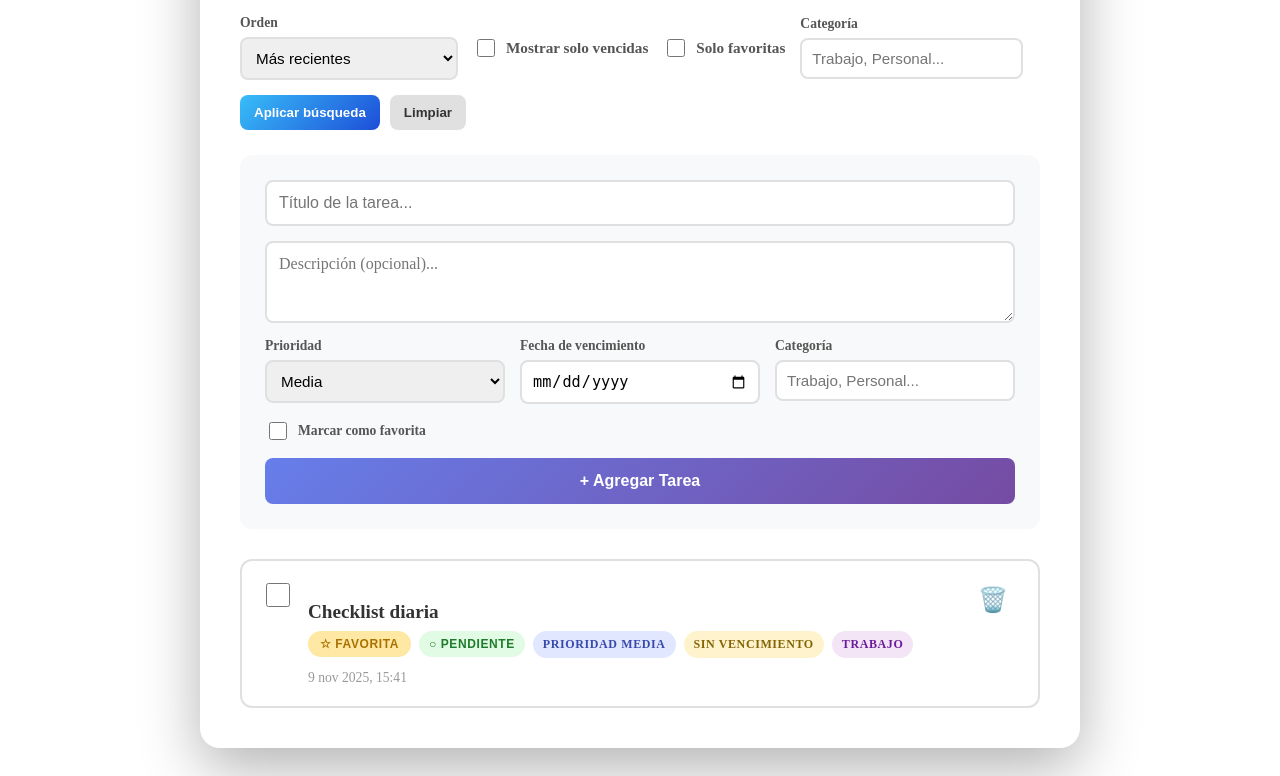
Test case: App - Gestión de Tareas › permite alternar el estado usando el botón de estado
(page scrolled)
What coordinates should you click on to do the following:
click the button "○ Pendiente"
I would click on:
 (472, 644)
Its box is top-left (419, 631), bottom-right (525, 657).
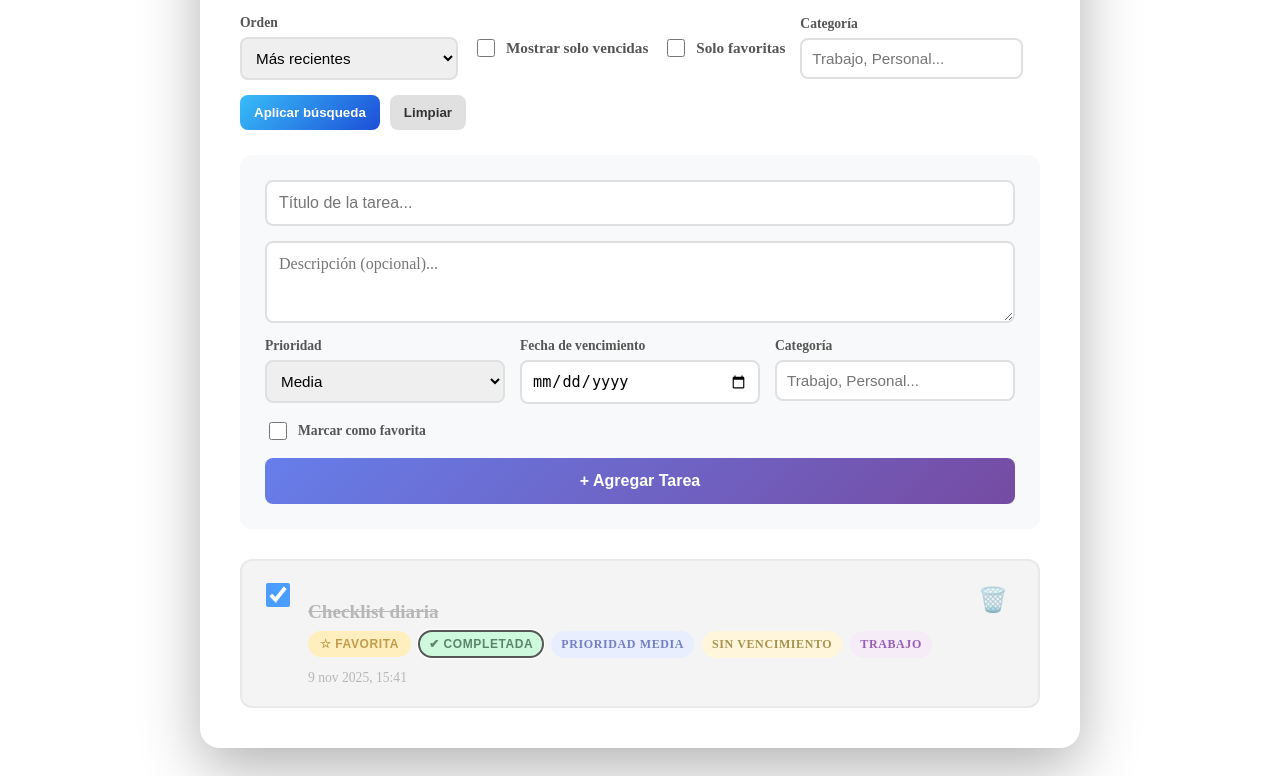
Result: the button "✔ Completada" is shown at top-left (419, 631), bottom-right (543, 657)
